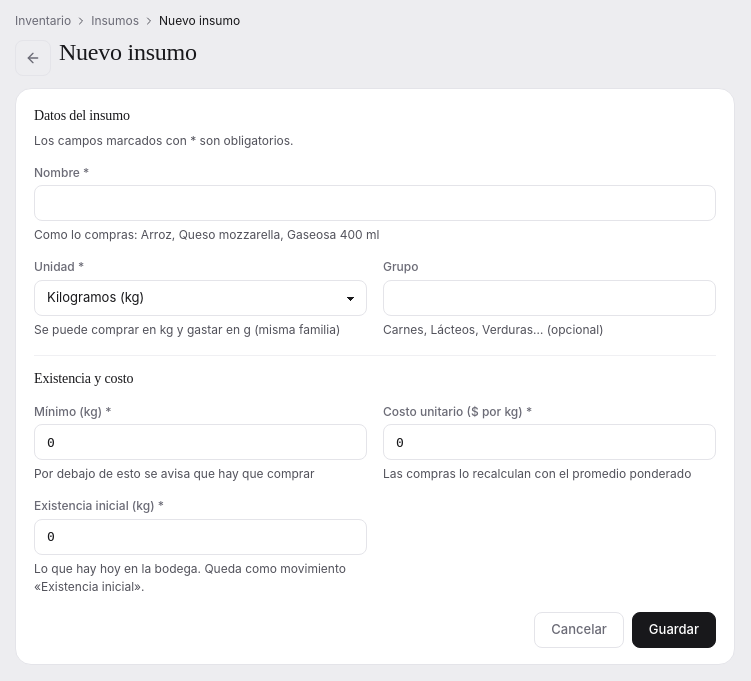
Insumos — la existencia solo cambia con movimientos › la cantidad no admite letras ni signo menos al teclear
This screenshot has width=751, height=681.
Replace the text in the field labelled "Mínimo (kg) *" with "-1a,5" at (200, 442), box [34, 424, 367, 460]
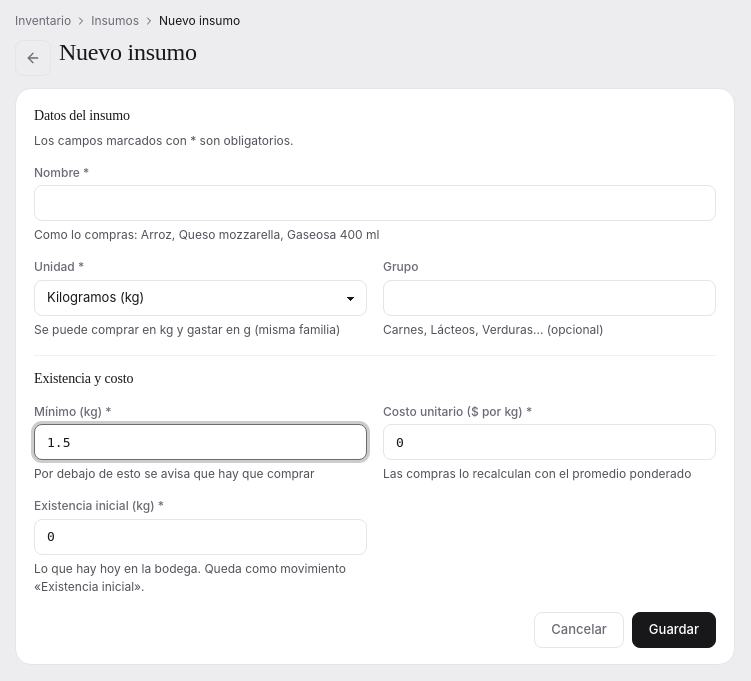
Result: the field labelled "Mínimo (kg) *" holds "1.5" at [34, 424, 367, 460]
